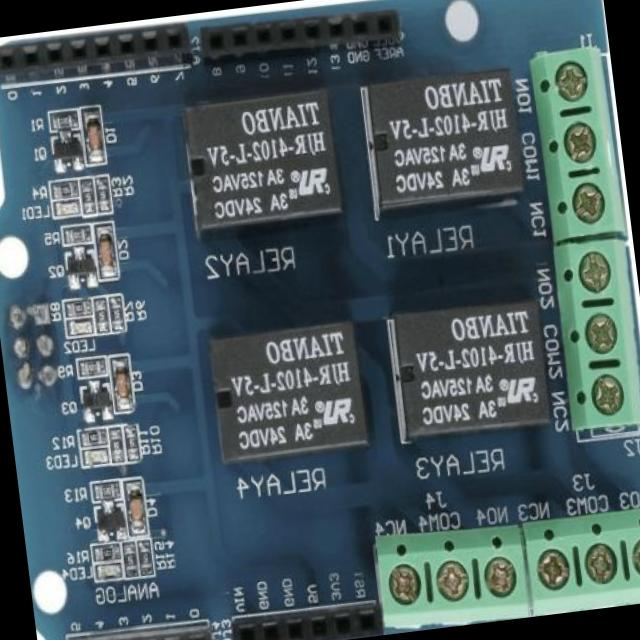LED: (64, 319, 98, 340), (80, 448, 112, 469), (94, 562, 124, 580), (50, 198, 81, 214)
connector: (526, 46, 627, 244), (370, 520, 534, 634), (550, 234, 640, 428), (0, 22, 193, 94), (519, 503, 640, 615), (200, 4, 402, 66), (223, 595, 384, 640), (59, 616, 216, 640)
diode: (83, 116, 107, 162), (125, 484, 147, 534), (112, 362, 136, 406), (95, 230, 116, 276)
resistor: (78, 178, 98, 216), (62, 221, 92, 246), (108, 424, 126, 462), (135, 541, 154, 577), (94, 175, 111, 215), (106, 295, 124, 330), (125, 424, 143, 459), (94, 292, 110, 330), (46, 110, 76, 130), (90, 477, 118, 498), (121, 542, 138, 576), (80, 354, 104, 378), (49, 179, 79, 198), (89, 543, 116, 560), (80, 428, 106, 445), (66, 300, 90, 318)
transistor: (44, 134, 84, 173), (90, 501, 124, 542), (80, 379, 116, 416), (66, 249, 96, 290)
